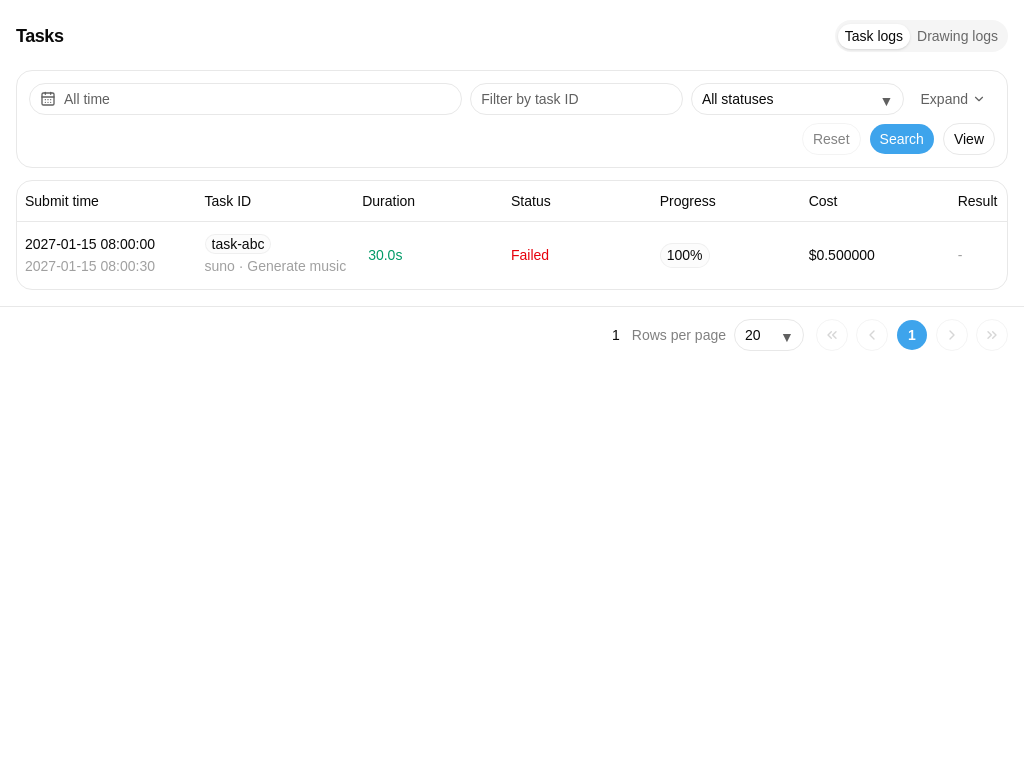
Test case: TasksPage › opens the details dialog with the input and the failure reason
Click the row with test id "task-row" at (520, 255), box [17,222,1023,289]
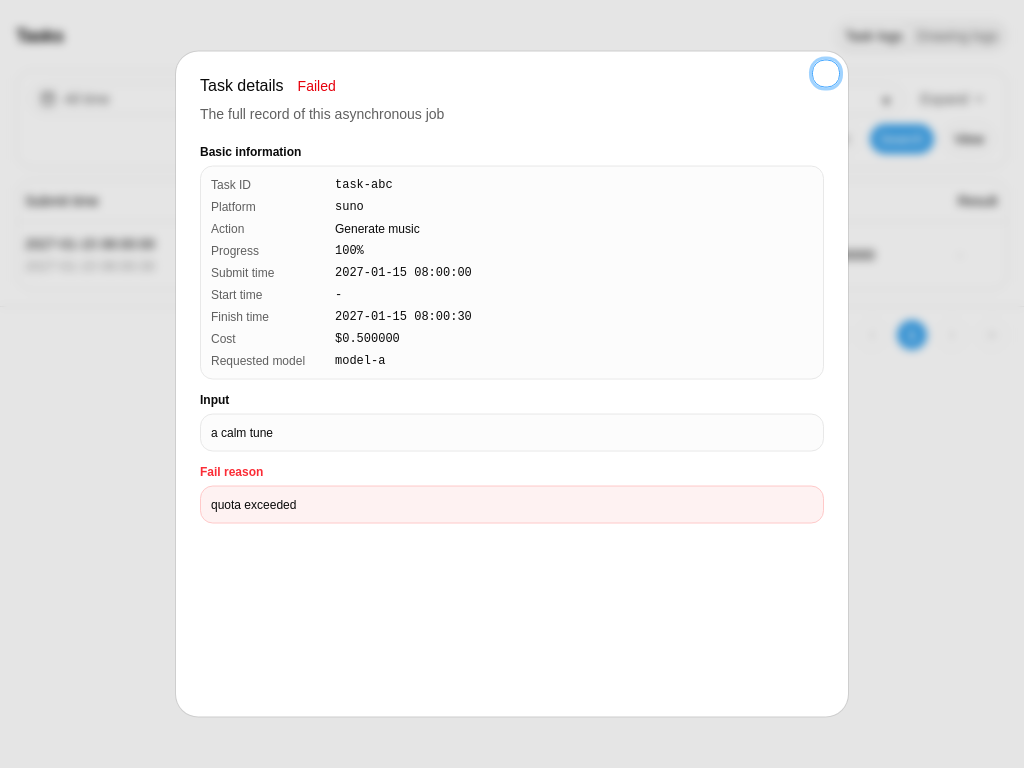
Expected: the text with test id "task-input" reads "a calm tune", [211,426,273,440]
Expected: the text with test id "task-fail-reason" reads "quota exceeded", [211,498,296,512]
